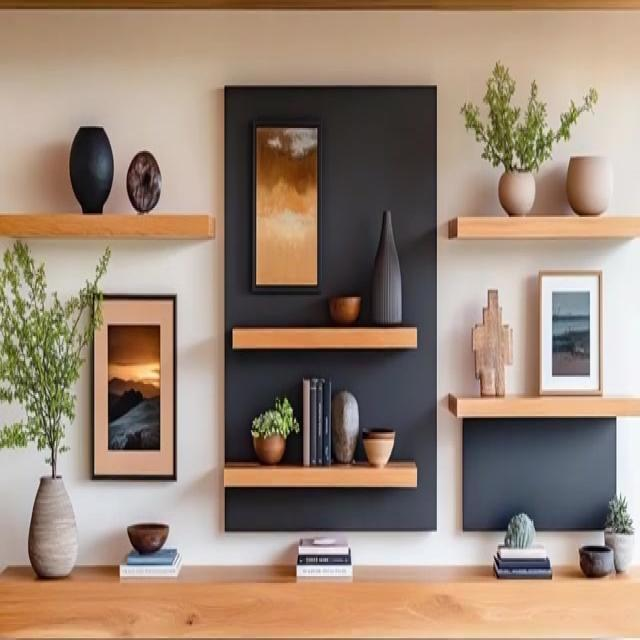obstacle: (0, 562, 639, 638)
